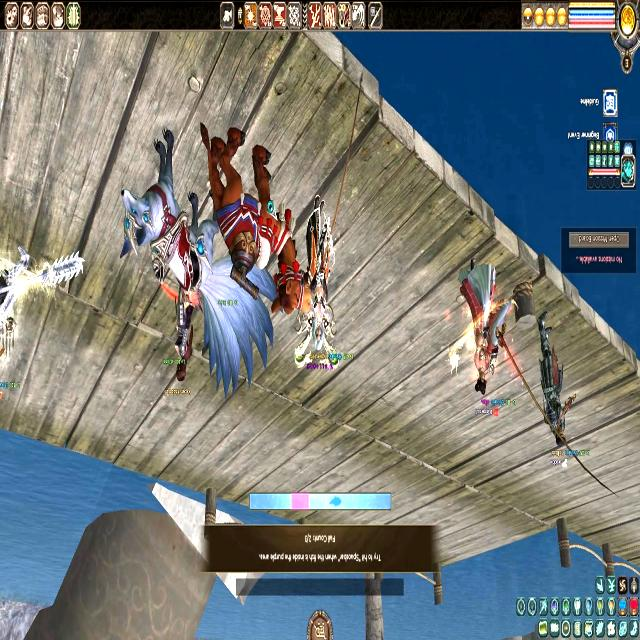fishes: (330, 495, 342, 509)
